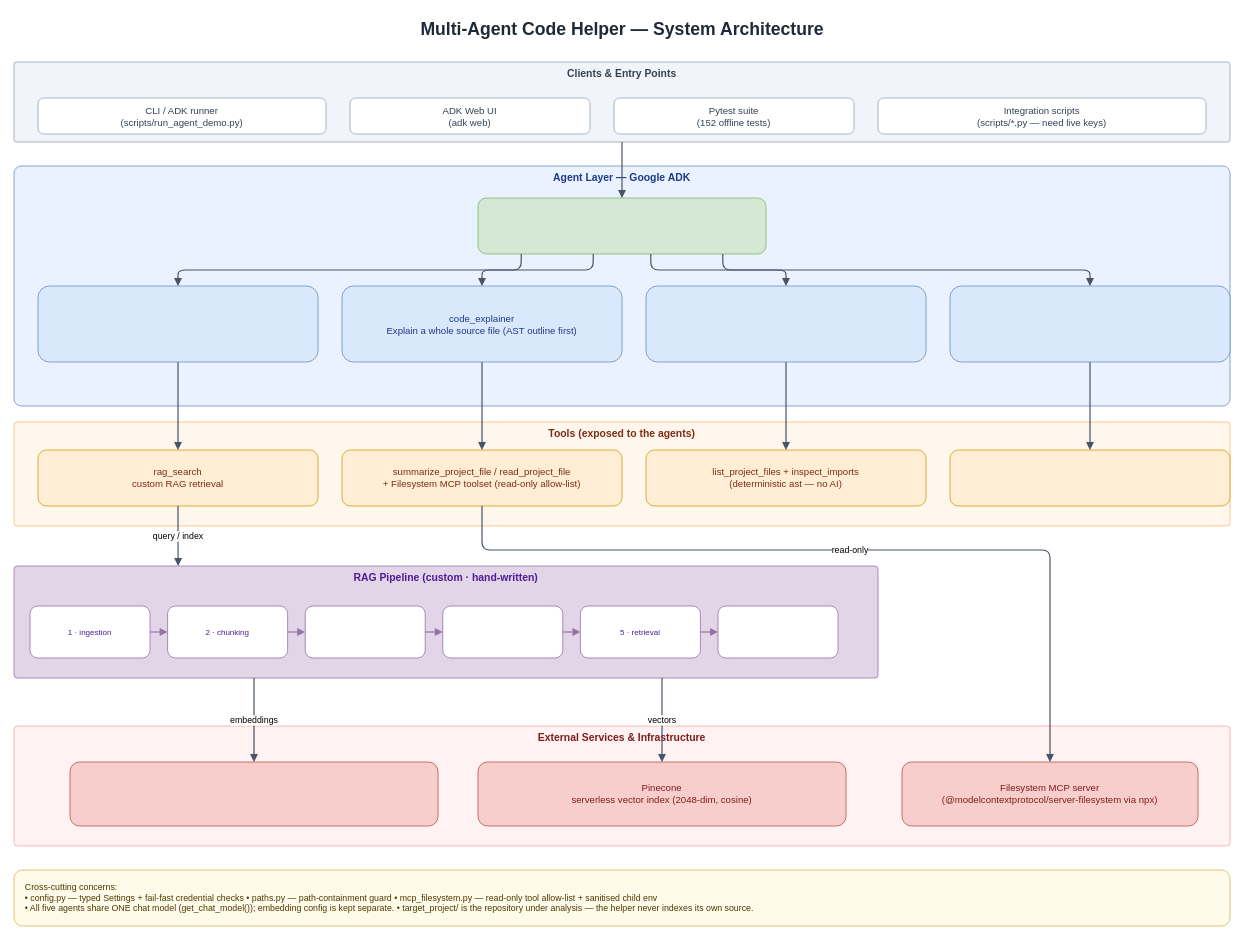
The diagram is 1244 pixels wide and 940 high, and some of its shapes have lost their labels. Each missing label, with the centre of its shape:
"3 · embeddings" belongs at point 364,631.
"4 · vector_store" belongs at point 502,631.
"6 · pipeline" belongs at point 777,631.
"architecture_mapper Module deps, layout, entry points" belongs at point 785,323.
"code_searcher WHERE is X implemented? (RAG)" belongs at point 177,323.
"Coordinator (root_agent) routes intent · has NO tools of its own" belongs at point 621,225.
"get_project_overview structure, entry points, run steps" belongs at point 1089,477.
"NVIDIA NIM chat completions + embeddings (via LiteLLM)" belongs at point 253,793.
"onboarding_guide Getting started + overview" belongs at point 1089,323.
